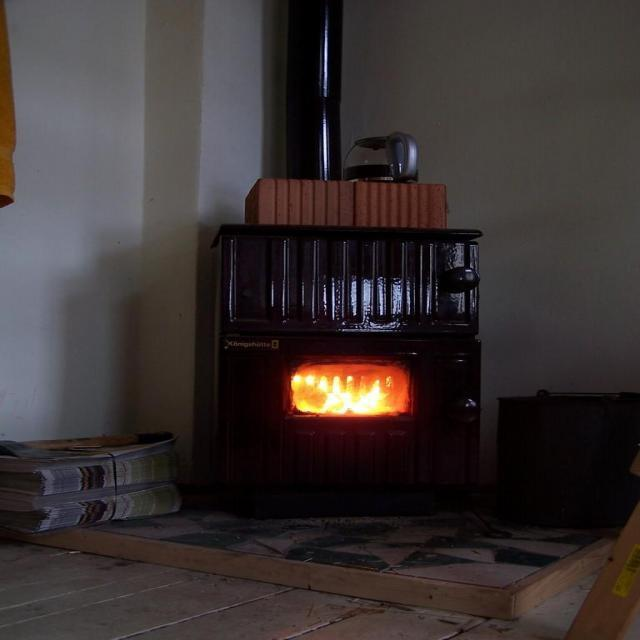fire: (290, 362, 409, 417)
